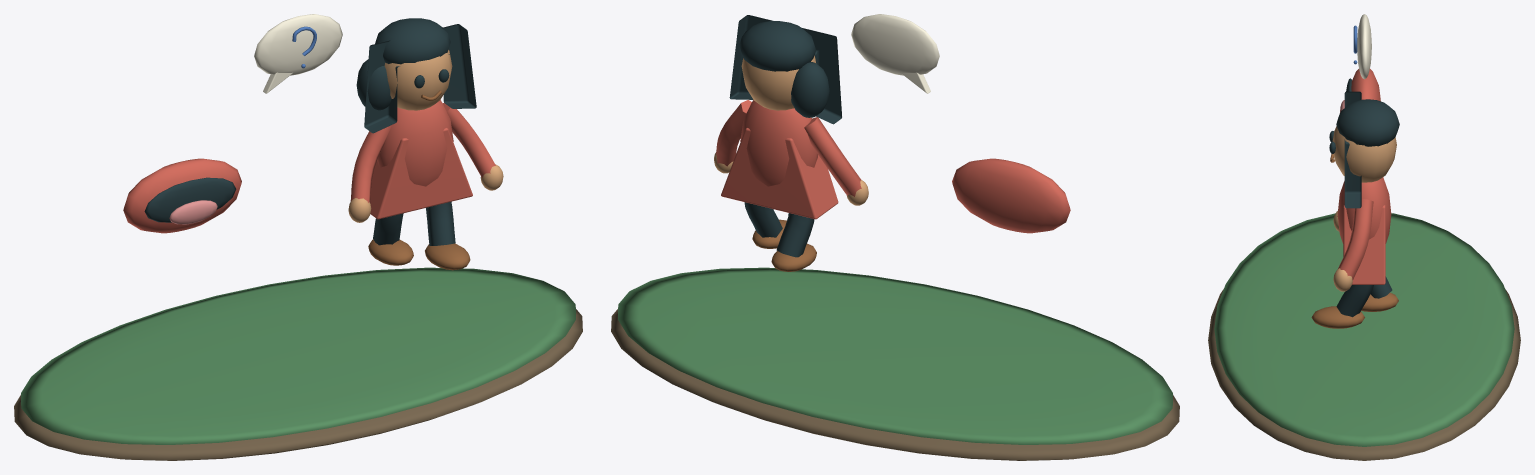
Rendered from complete-first-what-about-nun.glb.
3 renders of one model, left to right at view 1: azimuth 30°, elevation 25°; view 2: azimuth 150°, elevation 25°; view 3: azimuth 270°, elevation 25°, orthographic. The views are drawn at different scales.
Visible parts, largest first — view 1: complete-first-what-about-nun_surface_01, complete-first-what-about-nun_surface_02, complete-first-what-about-nun_surface_03, complete-first-what-about-nun_surface_00, complete-first-what-about-nun_surface_07, complete-first-what-about-nun_surface_05, complete-first-what-about-nun_surface_06, complete-first-what-about-nun_surface_04; view 2: complete-first-what-about-nun_surface_01, complete-first-what-about-nun_surface_02, complete-first-what-about-nun_surface_00, complete-first-what-about-nun_surface_03, complete-first-what-about-nun_surface_07, complete-first-what-about-nun_surface_05, complete-first-what-about-nun_surface_06; view 3: complete-first-what-about-nun_surface_01, complete-first-what-about-nun_surface_00, complete-first-what-about-nun_surface_02, complete-first-what-about-nun_surface_03, complete-first-what-about-nun_surface_05, complete-first-what-about-nun_surface_06, complete-first-what-about-nun_surface_07.
Part boxes in pixels (x1,y1,x2,y2): complete-first-what-about-nun_surface_01: [21, 267, 575, 444]; complete-first-what-about-nun_surface_02: [123, 100, 495, 233]; complete-first-what-about-nun_surface_03: [144, 18, 476, 245]; complete-first-what-about-nun_surface_00: [14, 309, 582, 460]; complete-first-what-about-nun_surface_07: [254, 14, 342, 93]; complete-first-what-about-nun_surface_05: [348, 50, 503, 222]; complete-first-what-about-nun_surface_06: [368, 90, 470, 270]; complete-first-what-about-nun_surface_04: [169, 200, 217, 224]; complete-first-what-about-nun_surface_01: [618, 267, 1172, 444]; complete-first-what-about-nun_surface_02: [716, 100, 1070, 233]; complete-first-what-about-nun_surface_00: [611, 309, 1179, 460]; complete-first-what-about-nun_surface_03: [729, 15, 841, 257]; complete-first-what-about-nun_surface_07: [851, 14, 939, 93]; complete-first-what-about-nun_surface_05: [714, 55, 868, 205]; complete-first-what-about-nun_surface_06: [752, 219, 816, 271]; complete-first-what-about-nun_surface_01: [1214, 213, 1514, 446]; complete-first-what-about-nun_surface_00: [1208, 289, 1520, 460]; complete-first-what-about-nun_surface_02: [1337, 69, 1391, 284]; complete-first-what-about-nun_surface_03: [1329, 78, 1399, 317]; complete-first-what-about-nun_surface_05: [1332, 126, 1396, 291]; complete-first-what-about-nun_surface_06: [1311, 153, 1398, 328]; complete-first-what-about-nun_surface_07: [1357, 14, 1371, 79].
Bounding box in the file's own units: 4.56 × 2.95 × 2.5.
